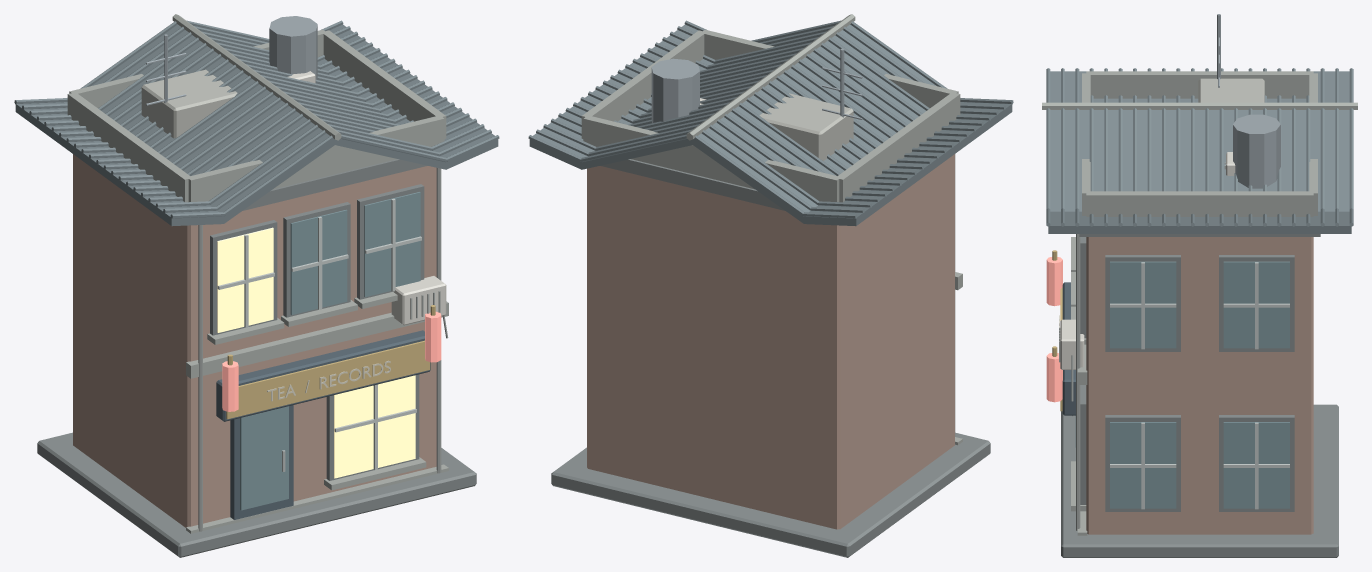
The model's file is SM_ENV_Building_03_Archive.glb.
The picture shows the model from 3 angles, left to right: view 1: azimuth 30°, elevation 25°; view 2: azimuth 150°, elevation 25°; view 3: azimuth 270°, elevation 25°; orthographic projection. The views are drawn at different scales.
Visible parts, largest first — view 1: SM_ENV_Building_03_Archive; view 2: SM_ENV_Building_03_Archive; view 3: SM_ENV_Building_03_Archive.
Part boxes in pixels (x1,y1,x2,y2): SM_ENV_Building_03_Archive: (14, 14, 499, 557); SM_ENV_Building_03_Archive: (528, 14, 1013, 557); SM_ENV_Building_03_Archive: (1042, 14, 1357, 557).
Size of the model in its own units: 5.81 by 7.6 by 5.
